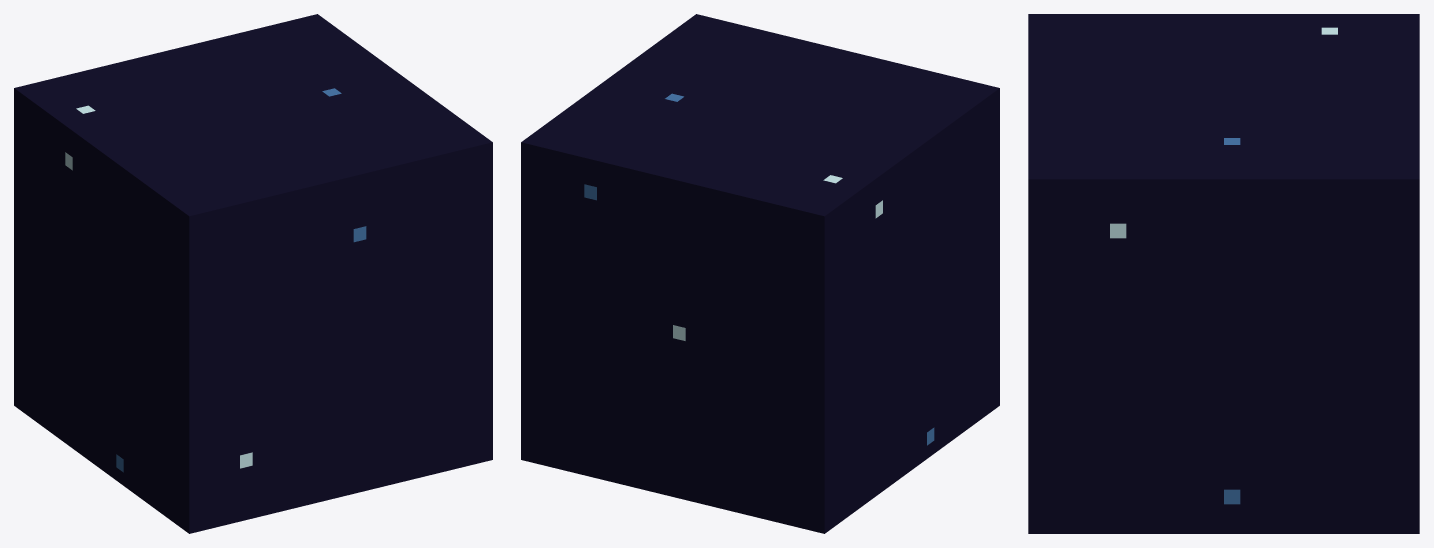
File: nightsky24x24x24.obj
The picture shows the model from 3 angles, left to right: view 1: azimuth 30°, elevation 25°; view 2: azimuth 150°, elevation 25°; view 3: azimuth 270°, elevation 25°; orthographic projection. The views are drawn at different scales.
Parts seen in each view (by area): view 1: nightsky24x24x24; view 2: nightsky24x24x24; view 3: nightsky24x24x24.
Boxes of the visible parts, x1,y1,x2,y2 form: nightsky24x24x24: [14, 14, 492, 533]; nightsky24x24x24: [521, 14, 999, 533]; nightsky24x24x24: [1028, 14, 1419, 533].
Bounding box in the file's own units: 24 × 24 × 24.
1 material, 1 textured.
